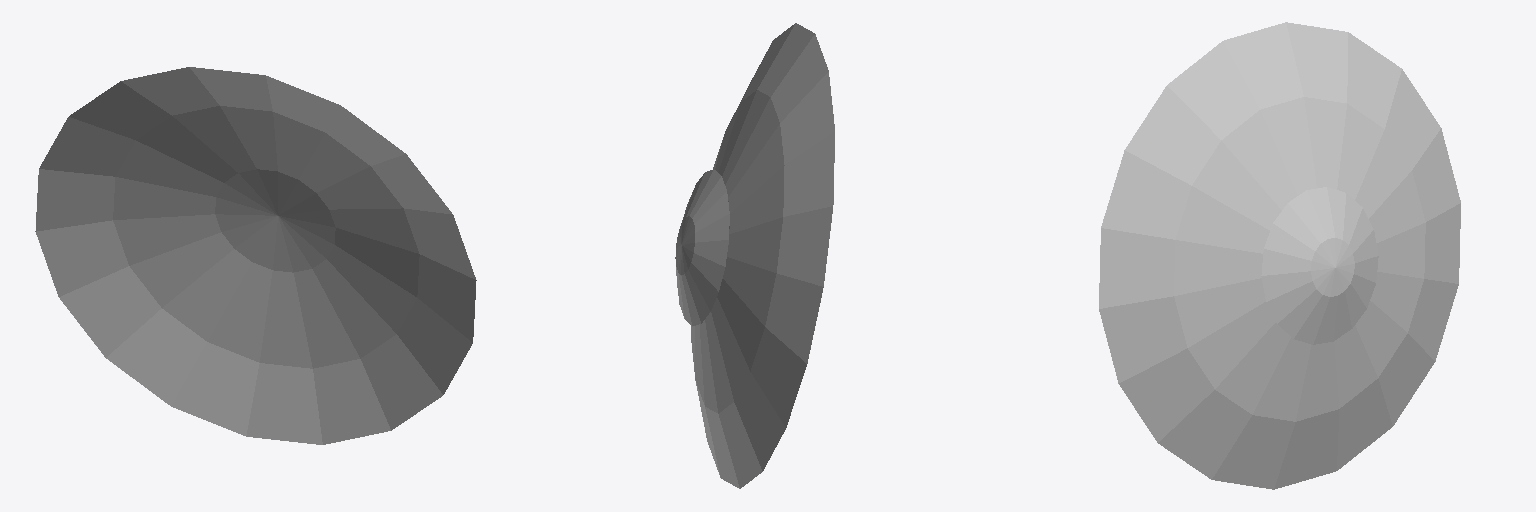
The picture shows the model from 3 angles: view 1: azimuth 30°, elevation 25°; view 2: azimuth 150°, elevation 25°; view 3: azimuth 270°, elevation 25°; orthographic projection.
Parts seen in each view (by area): view 1: pikapika03a_0; view 2: pikapika03a_0, pikapika03b_0; view 3: pikapika03a_0, pikapika03b_0.
Part boxes in pixels (left/top/right/bottom): pikapika03a_0: left=35, top=67, right=476, bottom=444; pikapika03a_0: left=691, top=23, right=834, bottom=488; pikapika03b_0: left=675, top=169, right=729, bottom=326; pikapika03a_0: left=1099, top=22, right=1460, bottom=489; pikapika03b_0: left=1261, top=187, right=1378, bottom=344.
Size of the model in its own units: 23.45 by 33.85 by 26.95.